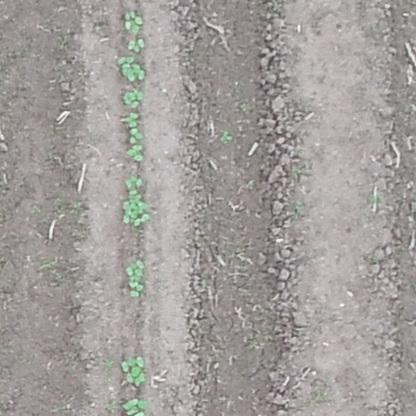vc: (124, 174, 149, 227), (120, 352, 151, 389), (127, 257, 146, 298), (118, 56, 145, 80), (121, 111, 141, 142), (119, 395, 148, 416), (121, 86, 147, 107), (123, 9, 143, 32), (126, 142, 146, 162), (127, 38, 147, 53), (219, 130, 235, 145)
